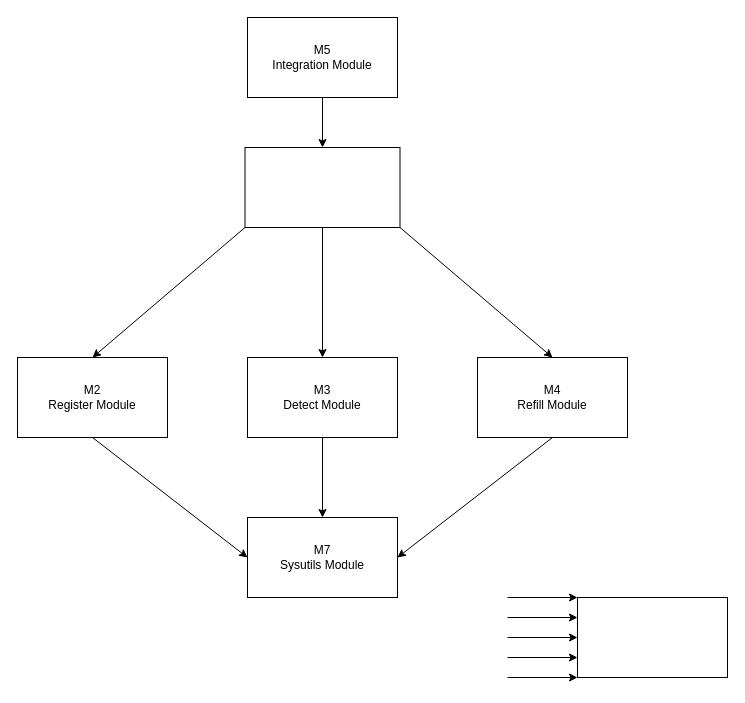
Some shapes in this 745 by 703 pixel diagram are drawn without their labels. Here are the shapes that lost their labels. From the top down, the centre of each, then its label:
At (x=322, y=187): "M6 Application Module".
At (x=652, y=637): "M1 Hardware Hiding Module".
